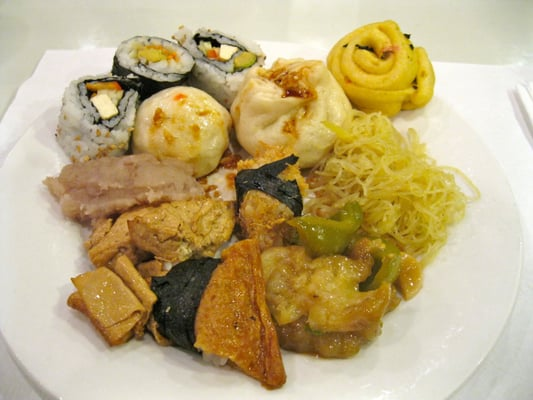curry: (0, 1, 532, 399)
